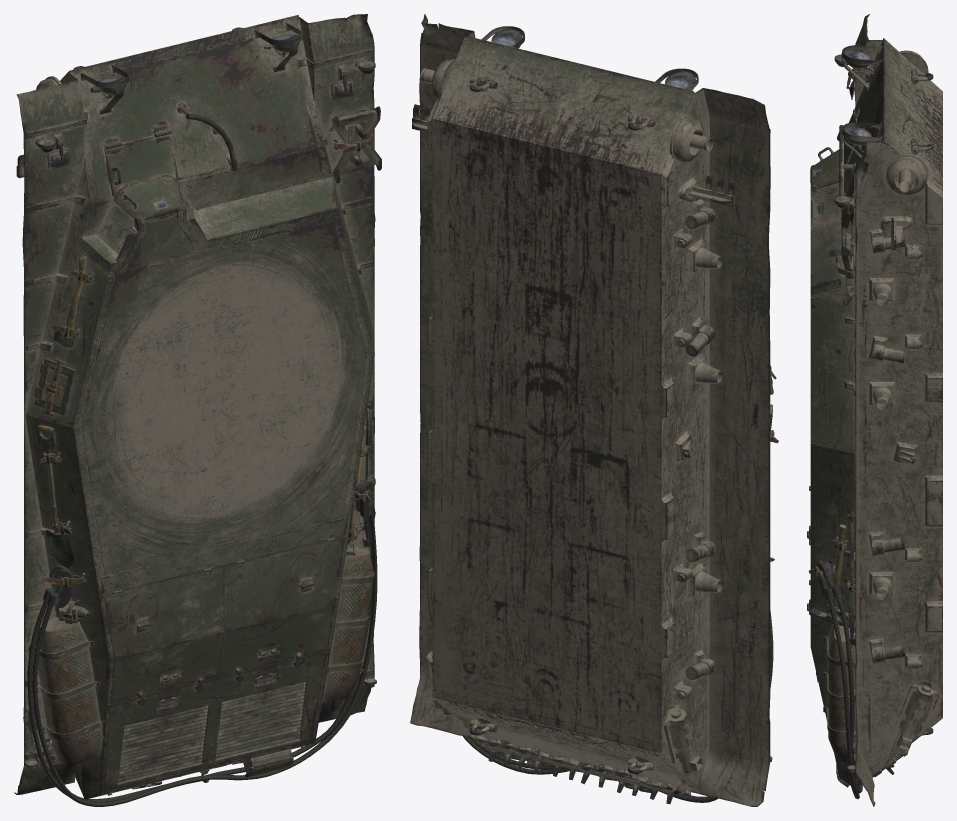
Rendered from Hull.glb.
3 views of the same model, side by side, from view 1: azimuth 30°, elevation 25°; view 2: azimuth 150°, elevation 25°; view 3: azimuth 270°, elevation 25° (orthographic). The views are drawn at different scales.
Visible parts, largest first — view 1: set_0_group_0; view 2: set_0_group_0; view 3: set_0_group_0.
Part boxes in pixels (x1,y1,x2,y2): set_0_group_0: (14, 14, 381, 806); set_0_group_0: (410, 14, 778, 806); set_0_group_0: (807, 14, 942, 806).
Bounding box in the file's own units: 2.87 × 5.78 × 1.06.
1 material, 1 textured.
